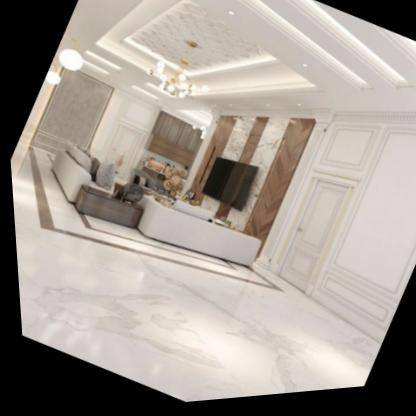Ceramic floor: (8, 144, 376, 405)
